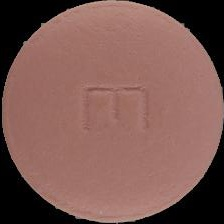50436-9986: (0, 0, 224, 224)
